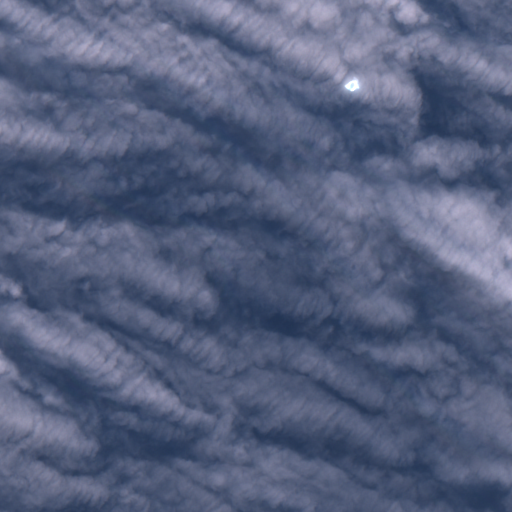Iceberg: (345, 79, 358, 90)
